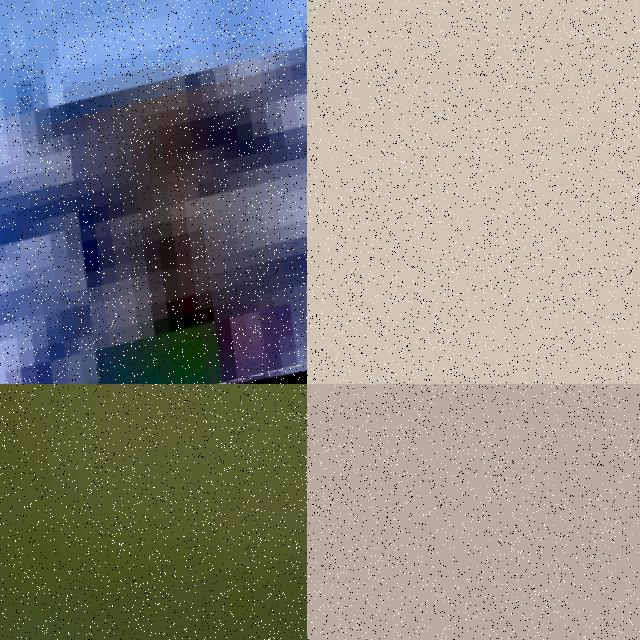0: (0, 0, 307, 384)
drone: (0, 384, 307, 640)
